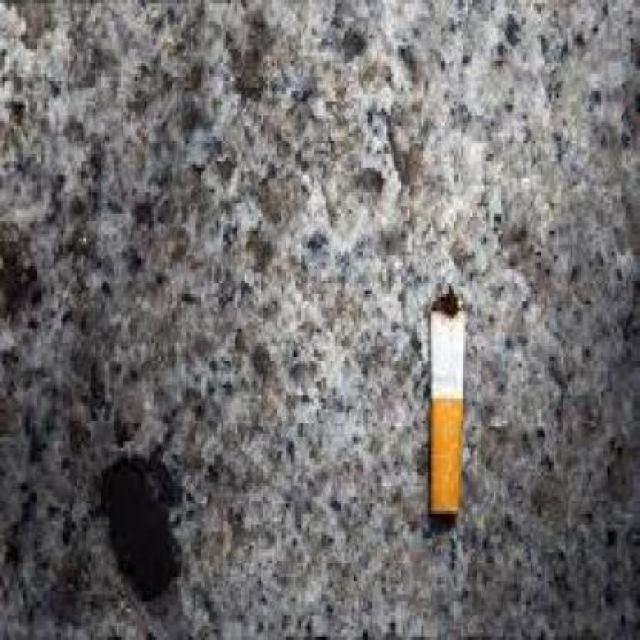cigarette: (423, 293, 480, 556)
